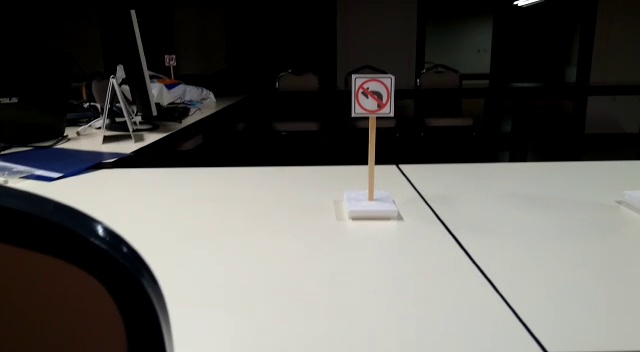sola_donulmez: (352, 74, 388, 117)
